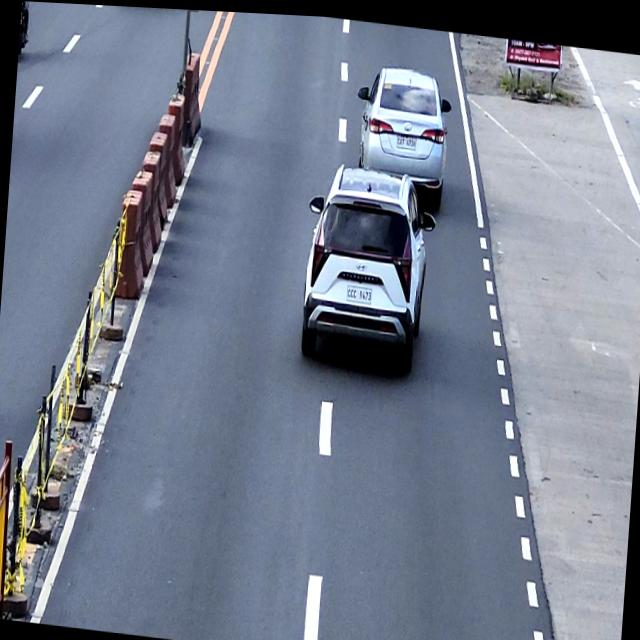Car: (297, 154, 438, 369), (349, 56, 454, 205)
License-Plate: (344, 278, 374, 300), (394, 130, 416, 146)
